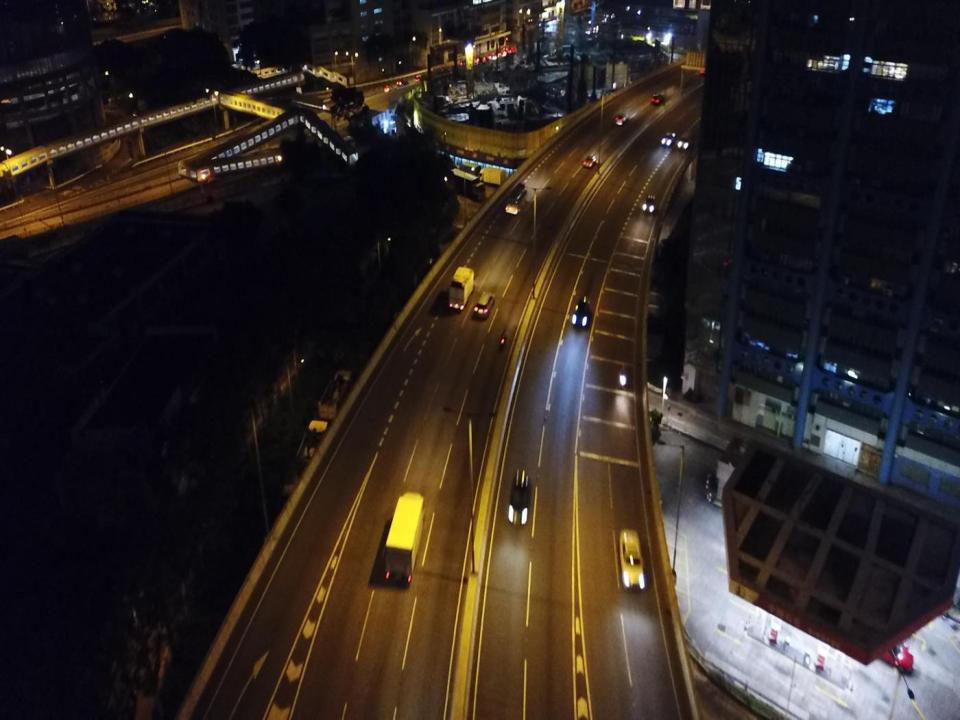bus: (504, 184, 526, 214)
car: (860, 634, 914, 674), (619, 528, 645, 591), (508, 472, 529, 524), (572, 295, 590, 330), (474, 290, 494, 320), (643, 194, 655, 214), (661, 132, 675, 145), (583, 155, 596, 168), (651, 94, 664, 104), (700, 67, 714, 75), (396, 78, 410, 86), (384, 84, 397, 92), (460, 59, 468, 65), (441, 67, 450, 71)
truck: (276, 420, 328, 514), (382, 488, 426, 586), (317, 369, 354, 420), (448, 168, 485, 201), (448, 265, 474, 311), (478, 168, 507, 187), (456, 163, 480, 181)
van: (677, 131, 692, 150), (615, 114, 629, 125), (416, 74, 426, 81)
